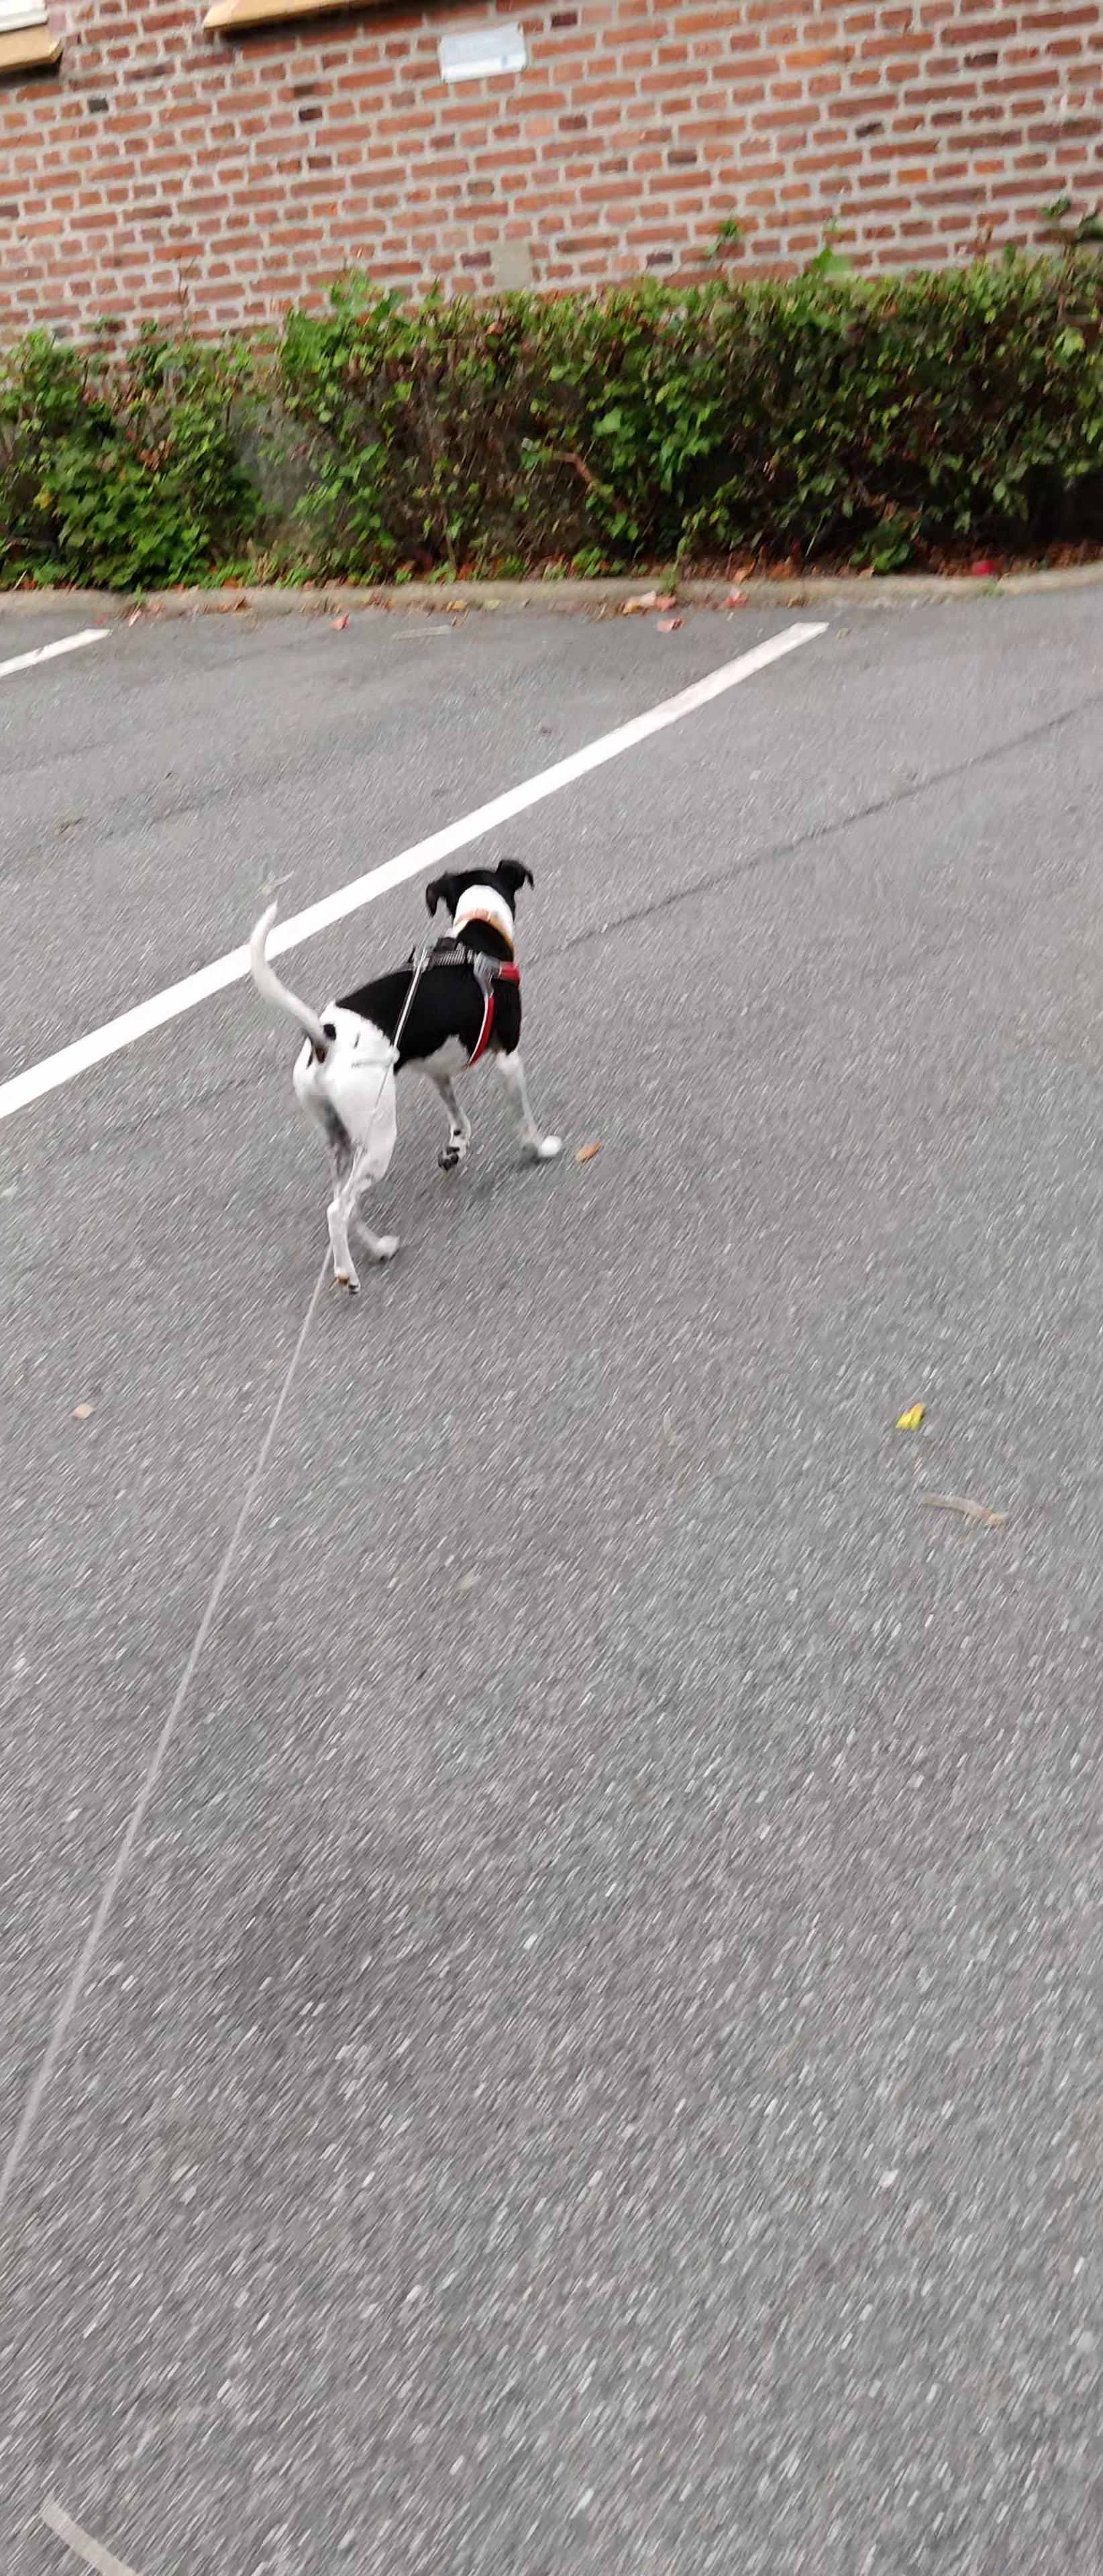Dog: (235, 853, 579, 1304)
